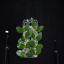leaf: (29, 28, 36, 39), (15, 26, 24, 33), (35, 25, 44, 32), (16, 50, 25, 57), (31, 17, 36, 29), (29, 47, 35, 56), (36, 32, 42, 40), (17, 43, 25, 49), (25, 30, 30, 39), (30, 39, 35, 48), (18, 38, 25, 43), (36, 44, 43, 49), (25, 22, 29, 30), (26, 52, 32, 57), (36, 49, 41, 55), (26, 42, 30, 48)
